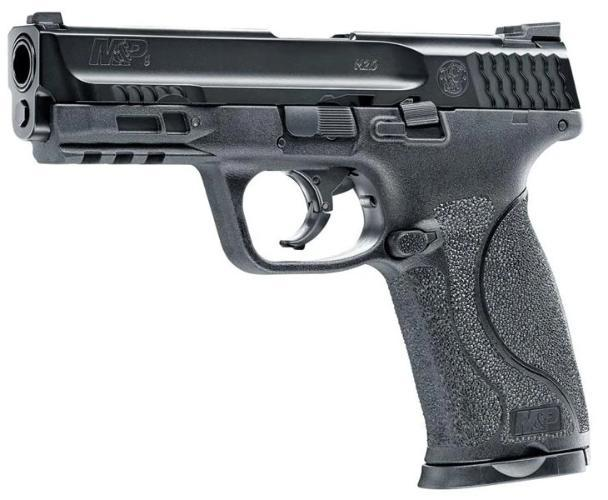Arma Real: (11, 9, 605, 490)
